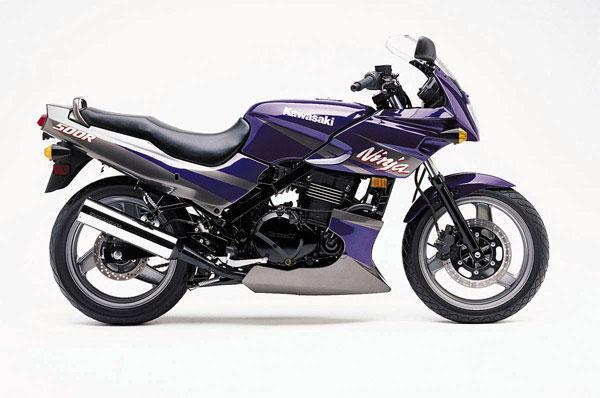motorcycle: (23, 29, 558, 331)
